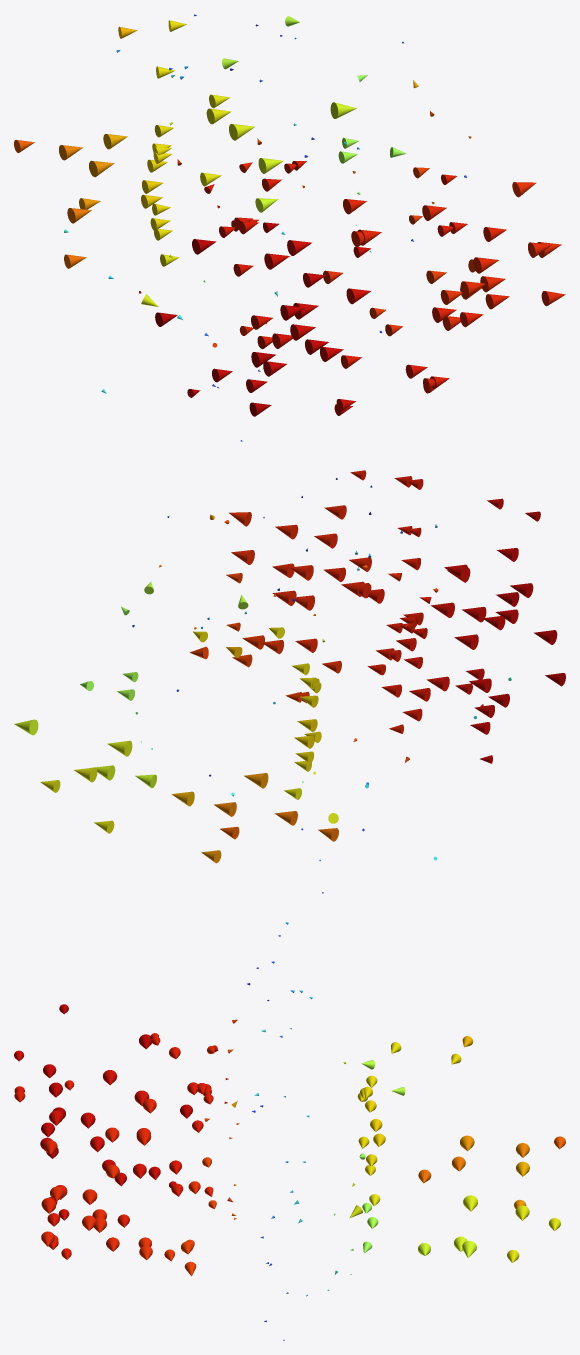
The model's file is LineasCorrienteH2-O2_mh2-2.70_V-0.9.glb.
3 renders of one model, top to bottom at view 1: azimuth 30°, elevation 25°; view 2: azimuth 150°, elevation 25°; view 3: azimuth 270°, elevation 25°, orthographic. The views are drawn at different scales.
Size of the model in its own units: 0.000923 by 0.000949 by 0.00123.
Materials: 2 (2 with a texture image).
